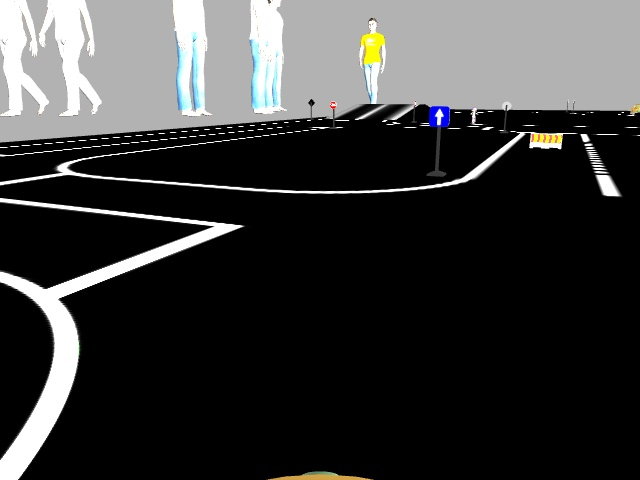ClosedRoadStand: (530, 133, 560, 149)
OneWay: (430, 106, 447, 125)
